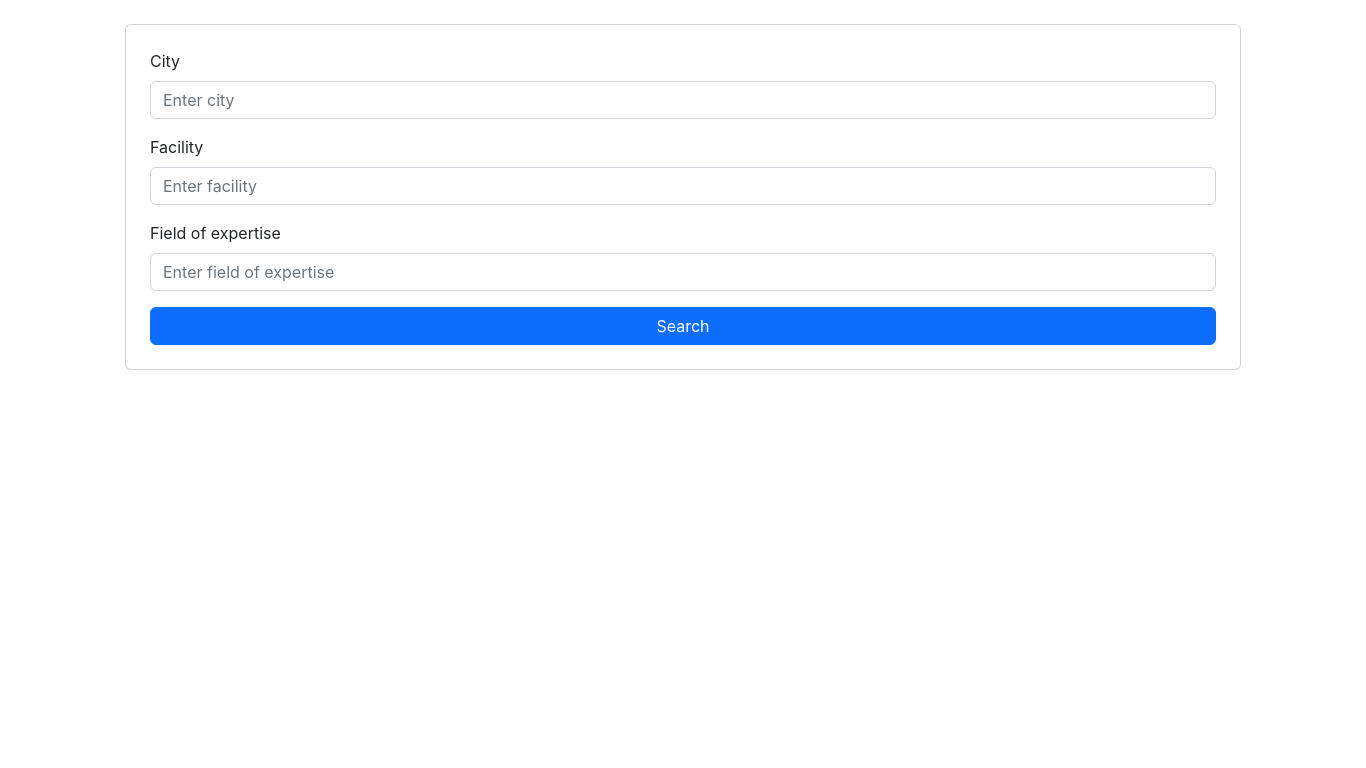
Test search form component › shows card with results if search was performed
The width and height of the screenshot is (1366, 768).
Expected: the text "john doe" is not shown
Click the button "Search". click: [683, 326]
box: [150, 307, 1216, 345]
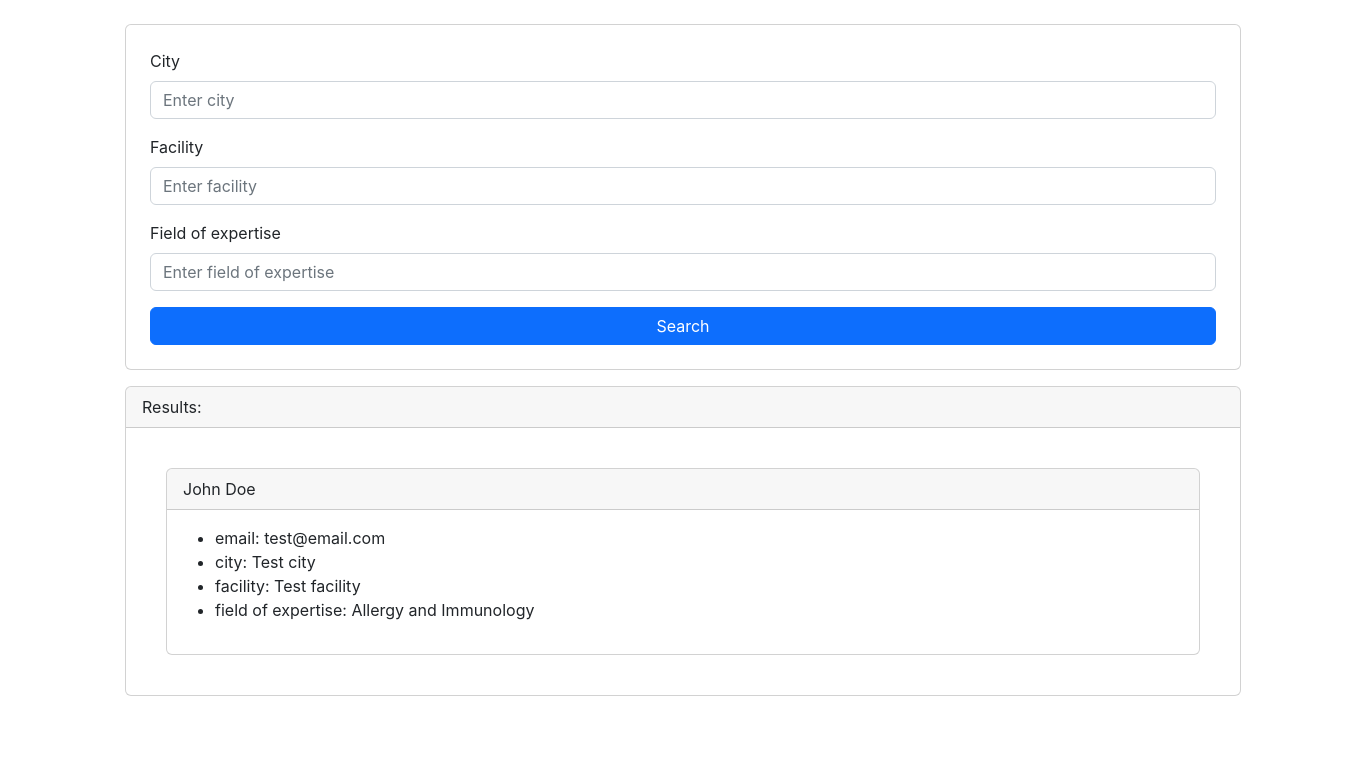
Now the text "John" is shown, box [183, 479, 221, 499]
Now the text "Doe" is shown, box [225, 479, 256, 499]
Now the list item "test@email.com" is shown, box [264, 528, 385, 548]
